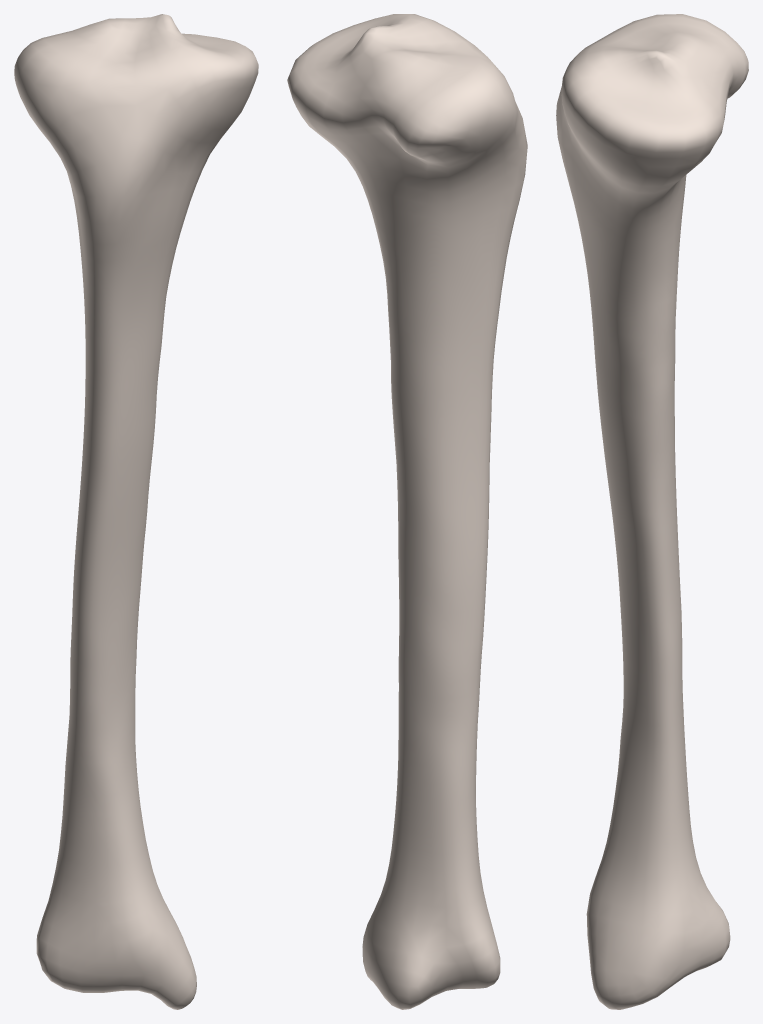
The model's file is frau2-1014.glb.
The picture shows the model from 3 angles, left to right: view 1: azimuth 30°, elevation 25°; view 2: azimuth 150°, elevation 25°; view 3: azimuth 270°, elevation 25°; orthographic projection.
Parts seen in each view (by area): view 1: VH_F_tibia_R; view 2: VH_F_tibia_R; view 3: VH_F_tibia_R.
Boxes of the visible parts, x1,y1,x2,y2 form: VH_F_tibia_R: (14, 14, 258, 1009); VH_F_tibia_R: (287, 14, 527, 1009); VH_F_tibia_R: (556, 14, 748, 1009).
Size of the model in its own units: 0.0791 by 0.3435 by 0.0624.
